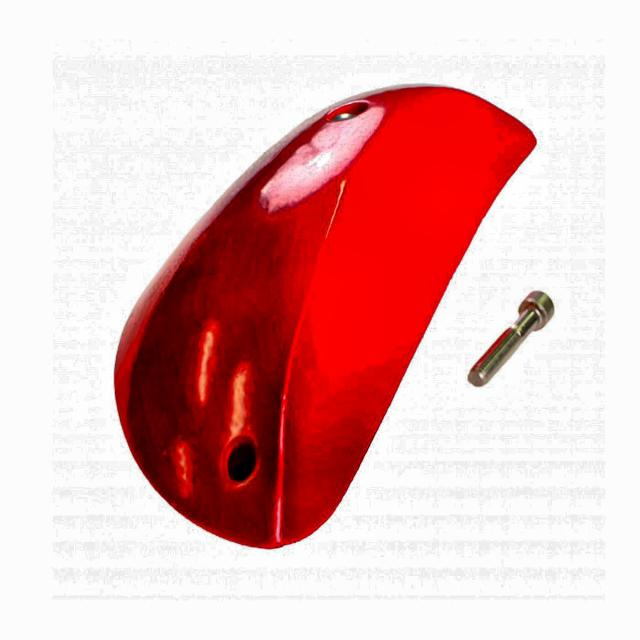Hold: (106, 61, 556, 557)
